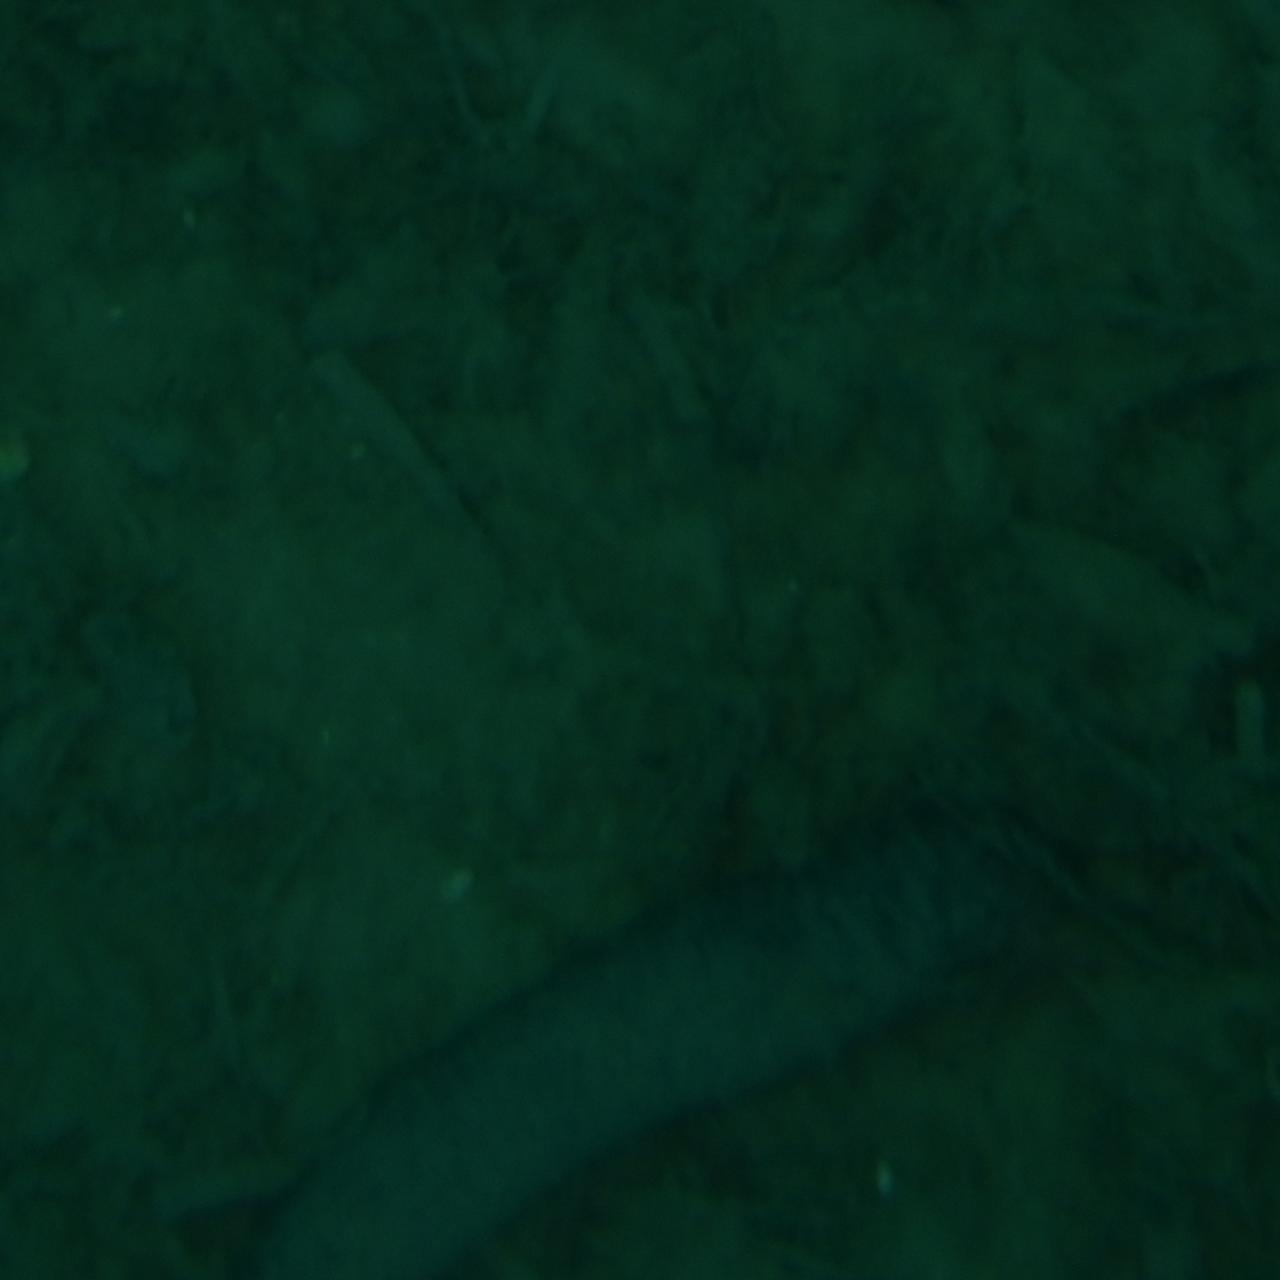Holothuria tubulosa: (222, 803, 1058, 1280)
